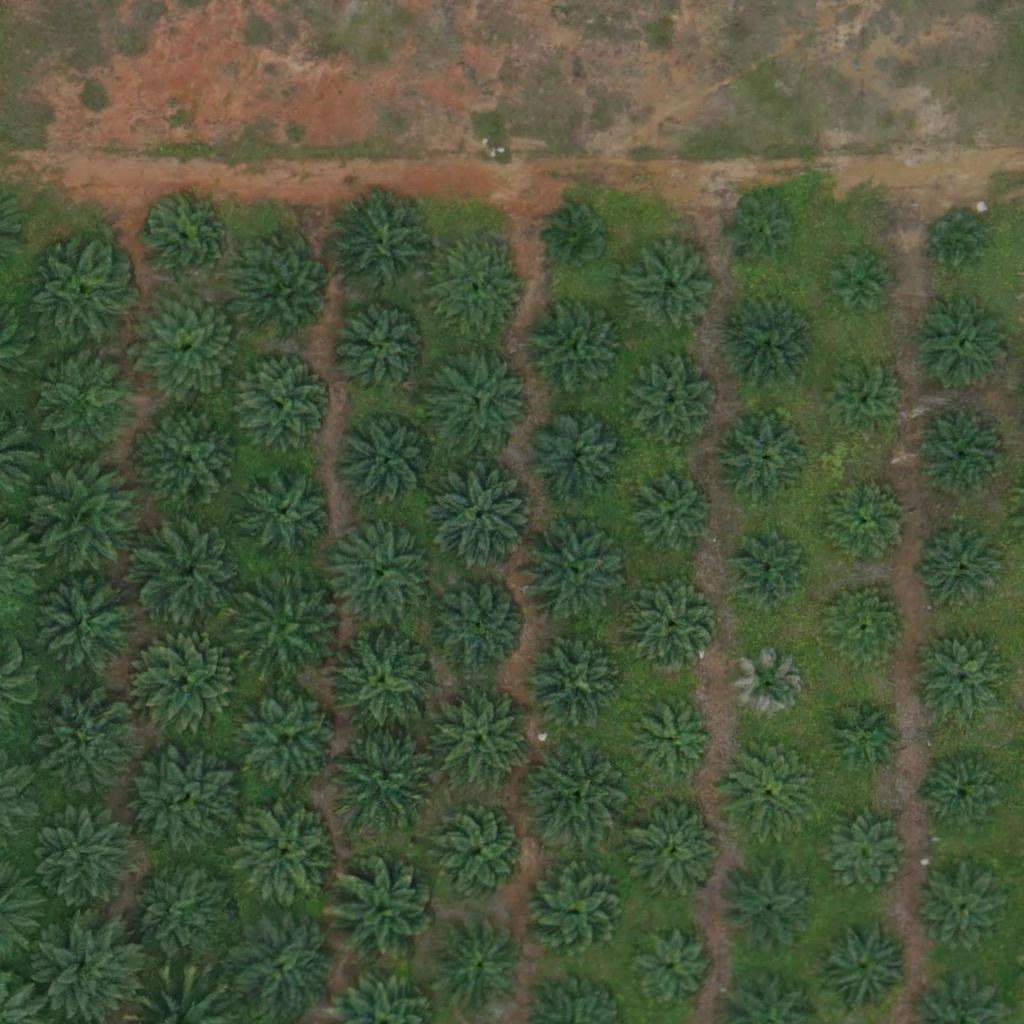Kelapa_Sawit: (132, 292, 245, 406), (136, 404, 249, 518), (233, 568, 346, 682), (325, 625, 438, 739), (333, 724, 446, 838), (31, 799, 144, 912), (520, 515, 633, 628), (327, 856, 440, 969), (323, 518, 435, 632), (520, 740, 632, 854), (34, 462, 146, 575), (32, 570, 144, 683), (136, 519, 248, 632), (135, 743, 247, 856), (327, 189, 439, 302), (427, 459, 539, 572), (126, 859, 238, 972), (40, 694, 140, 795), (138, 630, 238, 731), (235, 244, 335, 345), (240, 687, 340, 788), (336, 303, 436, 404), (338, 409, 438, 510), (429, 241, 529, 342), (431, 347, 531, 448), (525, 299, 625, 400), (528, 407, 628, 508), (526, 631, 626, 732), (622, 237, 722, 338), (724, 740, 824, 841), (812, 805, 912, 906), (812, 915, 912, 1016), (718, 855, 818, 956), (429, 915, 529, 1016), (233, 802, 333, 903), (230, 914, 330, 1015), (31, 244, 131, 344), (44, 354, 144, 454), (235, 353, 335, 453), (238, 464, 338, 564), (430, 575, 530, 675), (432, 692, 532, 792), (914, 295, 1014, 395), (626, 799, 726, 899), (525, 861, 625, 961), (429, 802, 529, 902), (630, 361, 718, 450), (820, 585, 908, 674), (922, 752, 1010, 841), (821, 692, 909, 780), (724, 304, 812, 392), (721, 417, 809, 505), (823, 483, 911, 571), (917, 866, 1005, 954), (629, 928, 717, 1016), (139, 192, 226, 280), (627, 475, 714, 563), (630, 585, 717, 673), (919, 412, 1006, 500), (918, 528, 1005, 616), (919, 638, 1006, 726), (636, 702, 711, 778), (826, 367, 901, 442), (730, 535, 805, 610), (732, 649, 807, 724), (731, 200, 794, 263), (828, 247, 891, 310), (548, 202, 611, 265), (924, 208, 986, 270)
